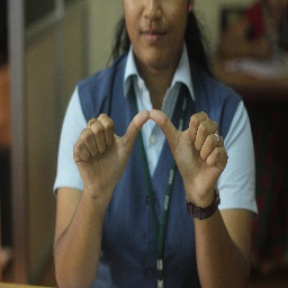A: (80, 103, 219, 186)
